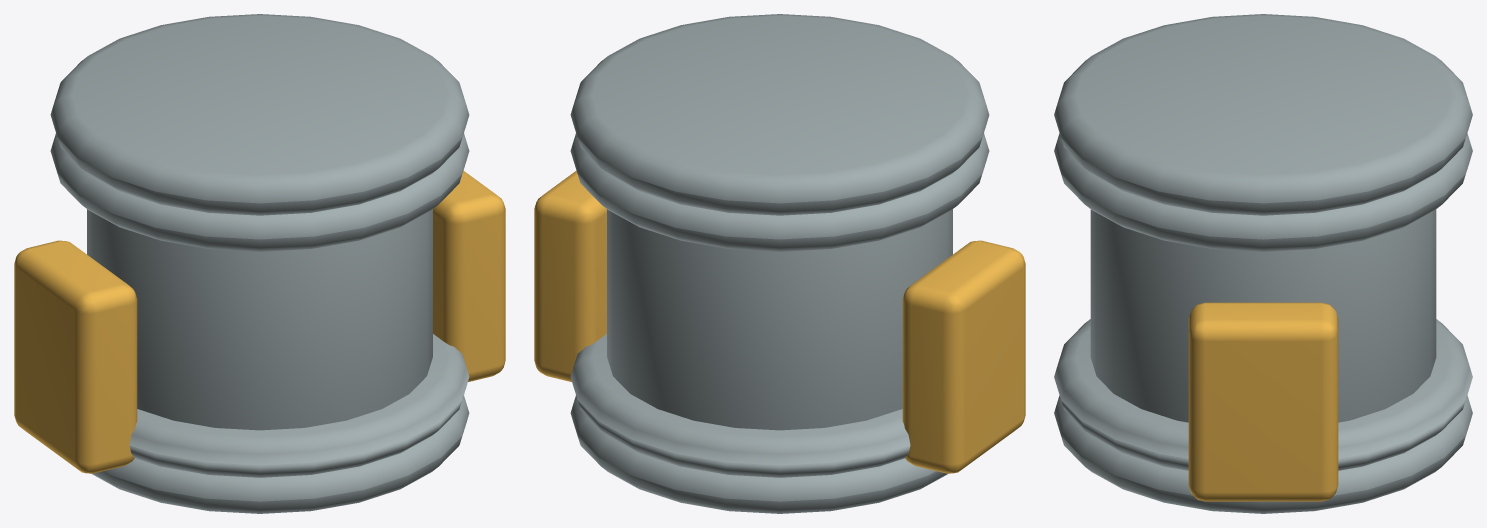
File: CouplingSocket.fbx
The picture shows the model from 3 angles, left to right: view 1: azimuth 30°, elevation 25°; view 2: azimuth 150°, elevation 25°; view 3: azimuth 270°, elevation 25°; orthographic projection.
Parts seen in each view (by area): view 1: LockingRing.003, SocketBody, LatchEar, LockingRing.001, LockingRing.002, LockingRing, LatchEar.001; view 2: LockingRing.003, SocketBody, LatchEar, LockingRing.001, LockingRing.002, LockingRing, LatchEar.001; view 3: LockingRing.003, SocketBody, LatchEar.001, LockingRing.001, LockingRing.002, LockingRing.
Boxes of the visible parts, box(x1,y1,x2,y2) form: LockingRing.003: box(50, 14, 469, 215); SocketBody: box(87, 209, 432, 430); LatchEar: box(14, 240, 137, 473); LockingRing.001: box(129, 334, 469, 477); LockingRing.002: box(50, 133, 469, 251); LockingRing: box(91, 395, 469, 513); LatchEar.001: box(433, 170, 505, 381); LockingRing.003: box(570, 14, 989, 215); SocketBody: box(607, 209, 952, 430); LatchEar: box(902, 240, 1025, 473); LockingRing.001: box(570, 334, 910, 477); LockingRing.002: box(570, 133, 989, 251); LockingRing: box(570, 395, 948, 513); LatchEar.001: box(534, 170, 606, 381); LockingRing.003: box(1054, 14, 1472, 215); SocketBody: box(1090, 209, 1436, 422); LatchEar.001: box(1188, 302, 1338, 501); LockingRing.001: box(1054, 319, 1472, 470); LockingRing.002: box(1054, 133, 1472, 251); LockingRing: box(1054, 395, 1472, 513).
Size of the model in its own units: 14.9 by 11.5 by 12.6.
